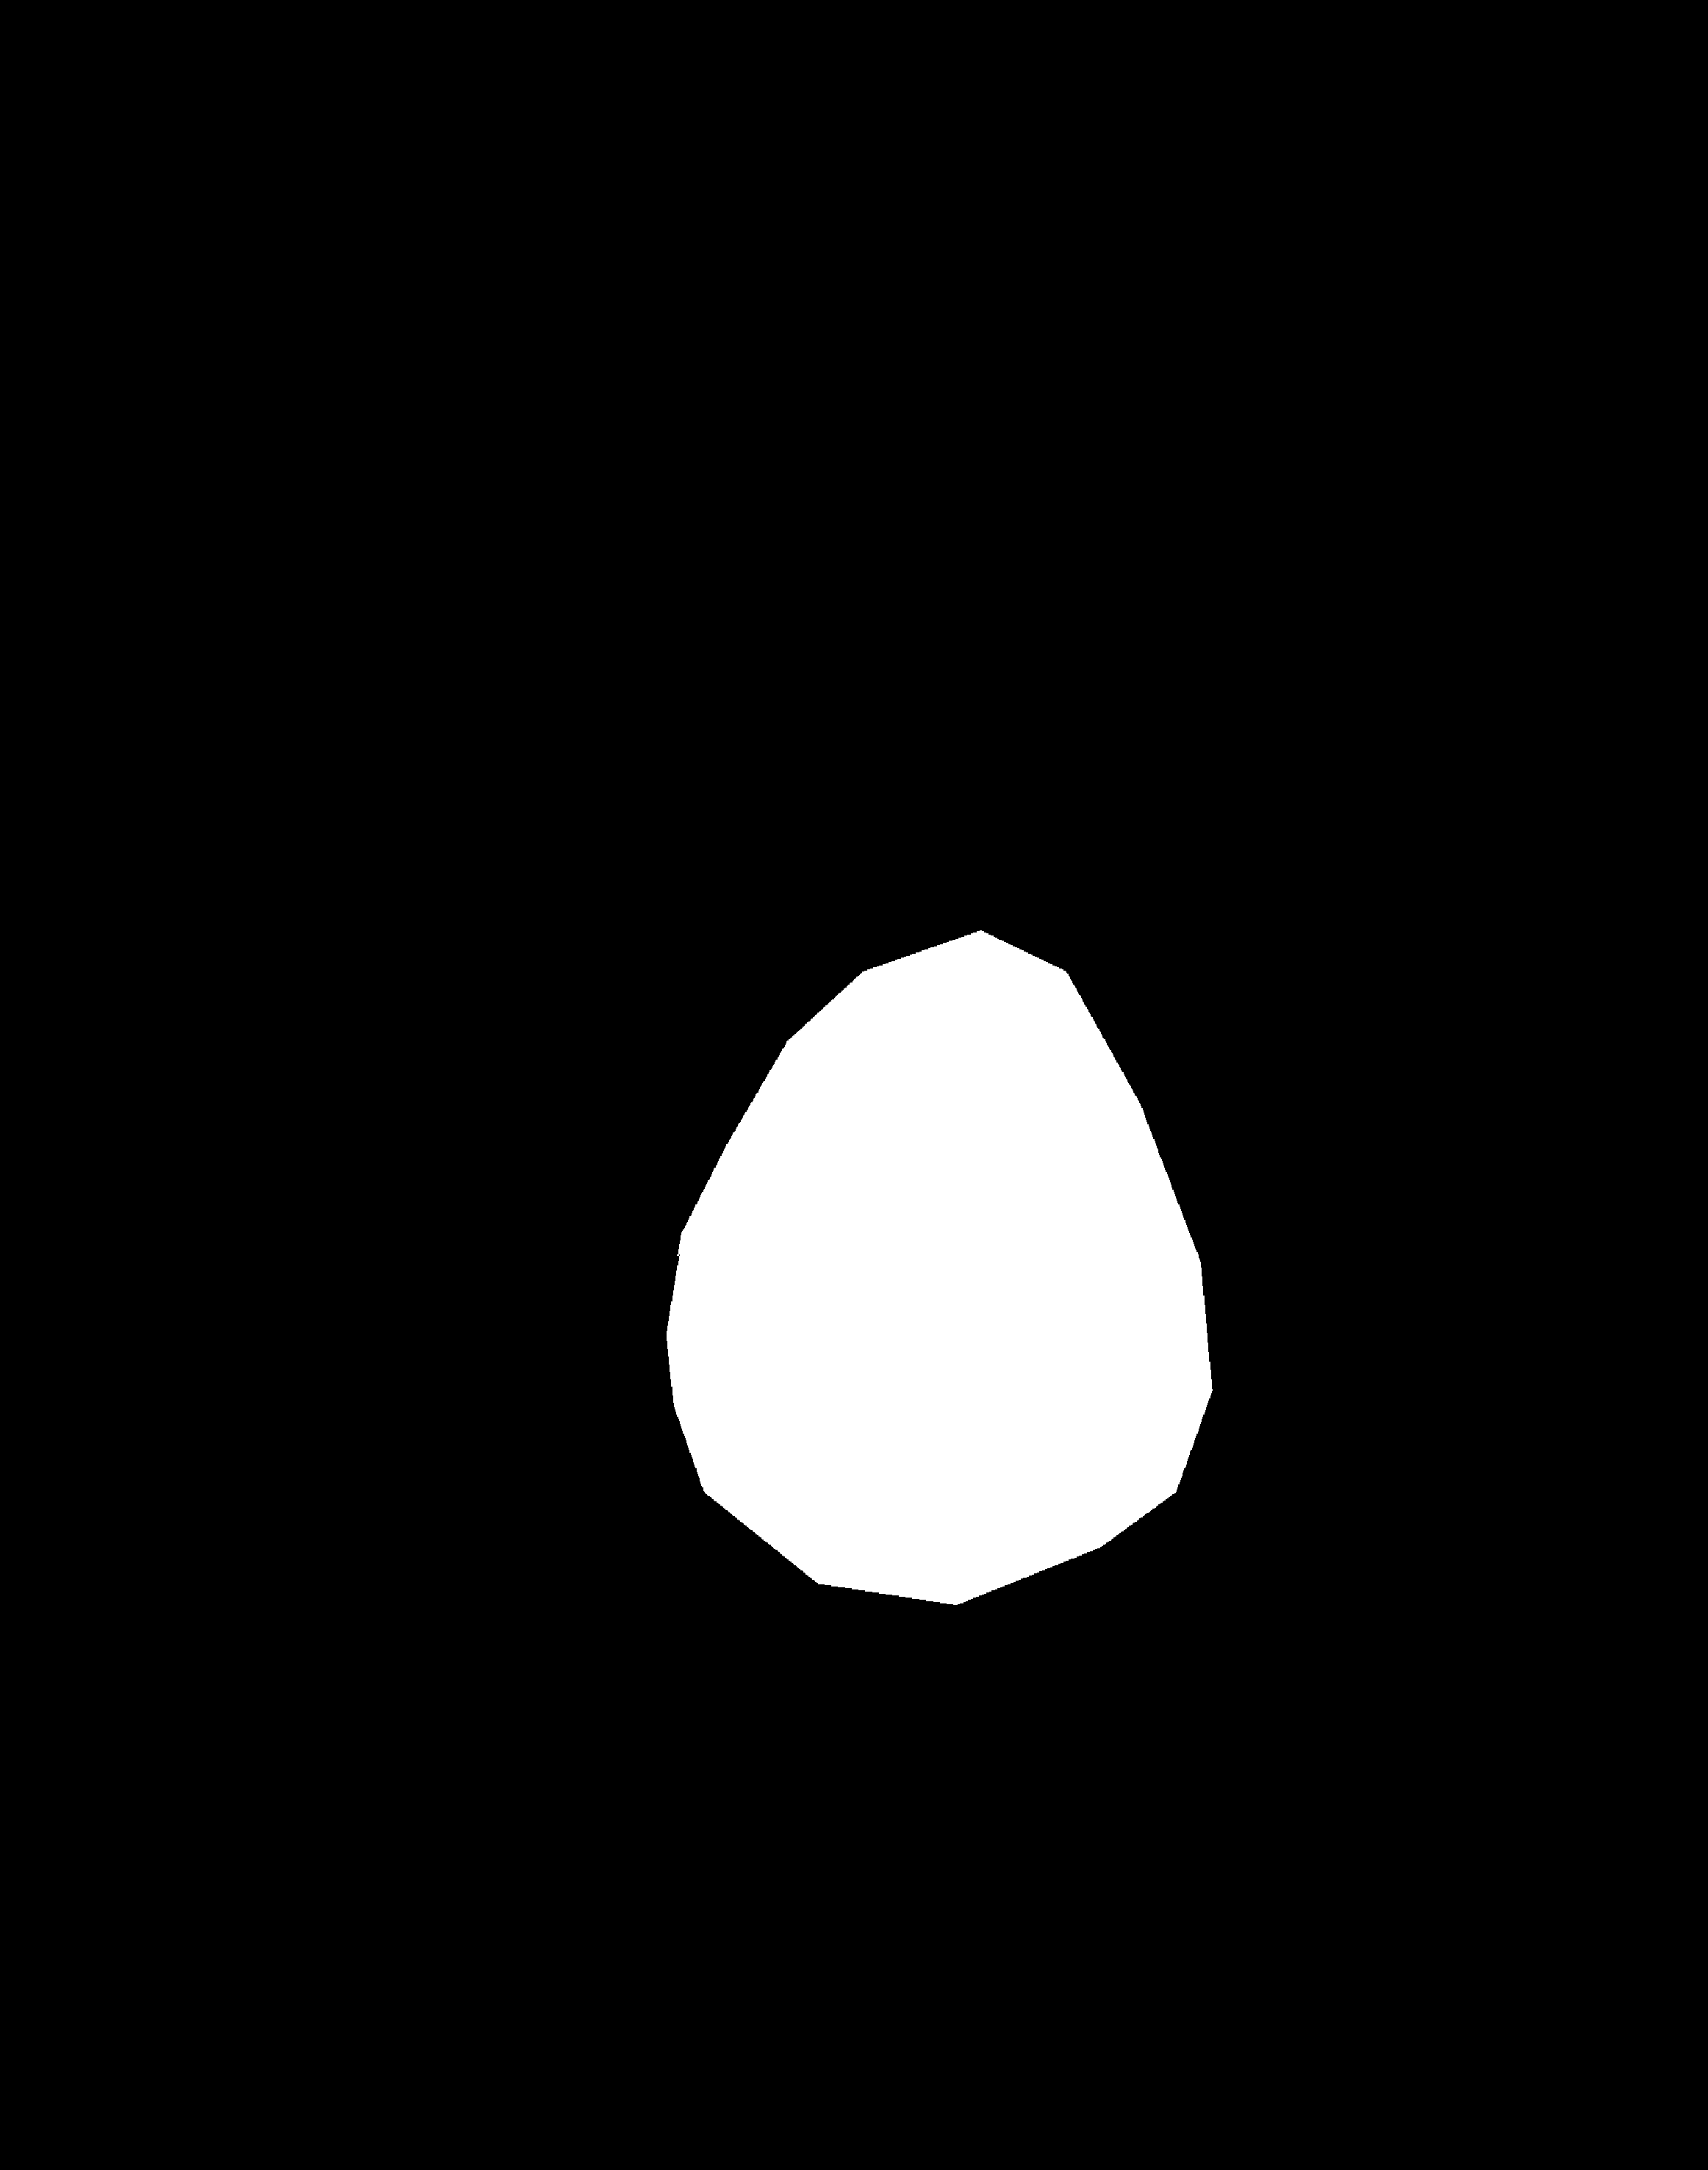heart: (667, 1053, 1287, 1622)
left_lung: (113, 301, 789, 1779)
right_lung: (1064, 557, 1284, 969)
